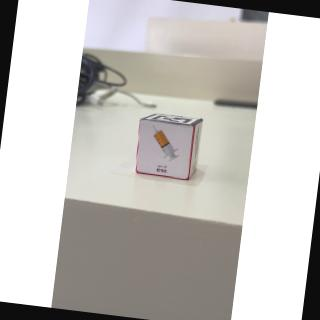Syringe: (134, 123, 195, 182)
